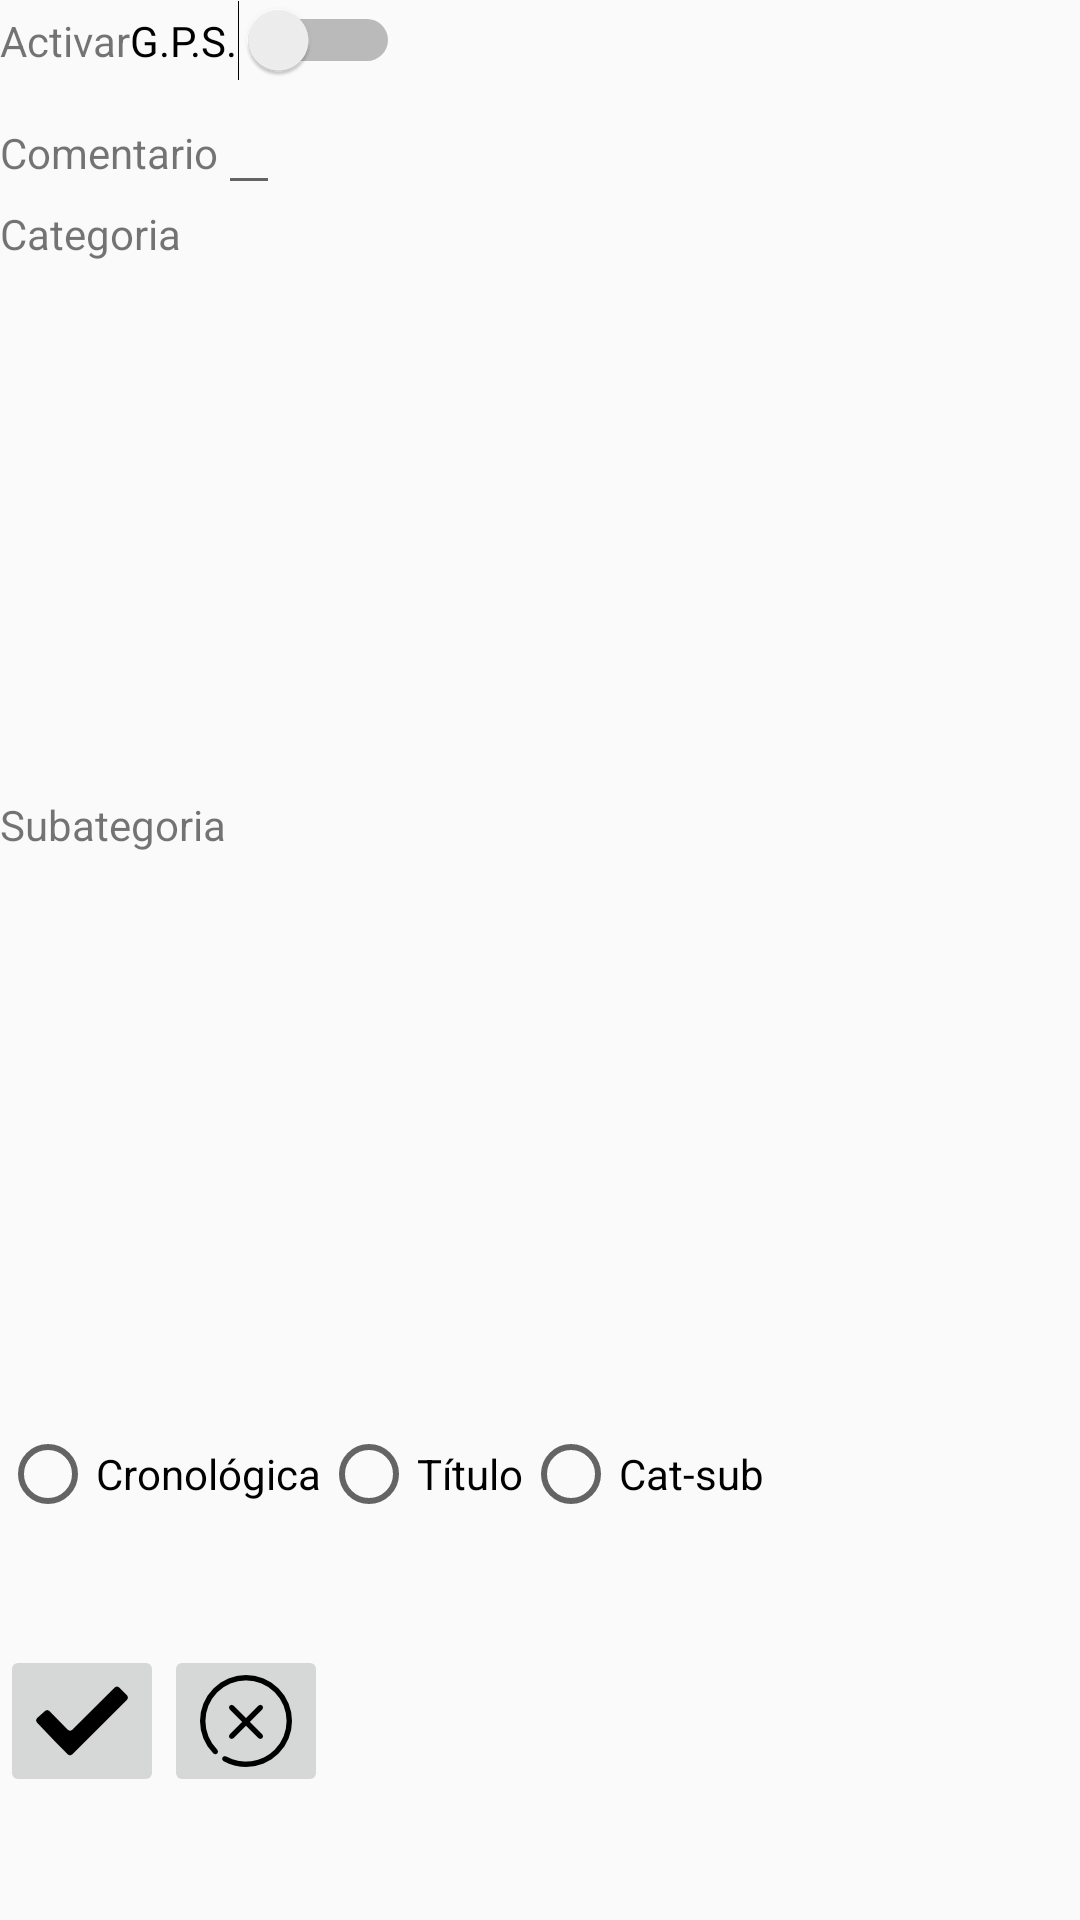

Icon click points for this 1080w x 1920h phone screenshot, format (x,y):
cancel: (246,1721)
